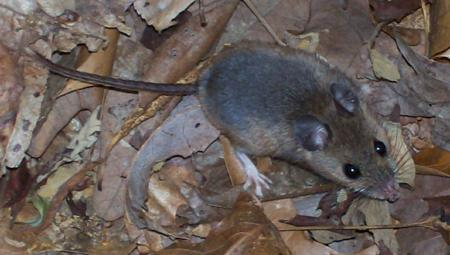rat: (30, 44, 402, 202)
